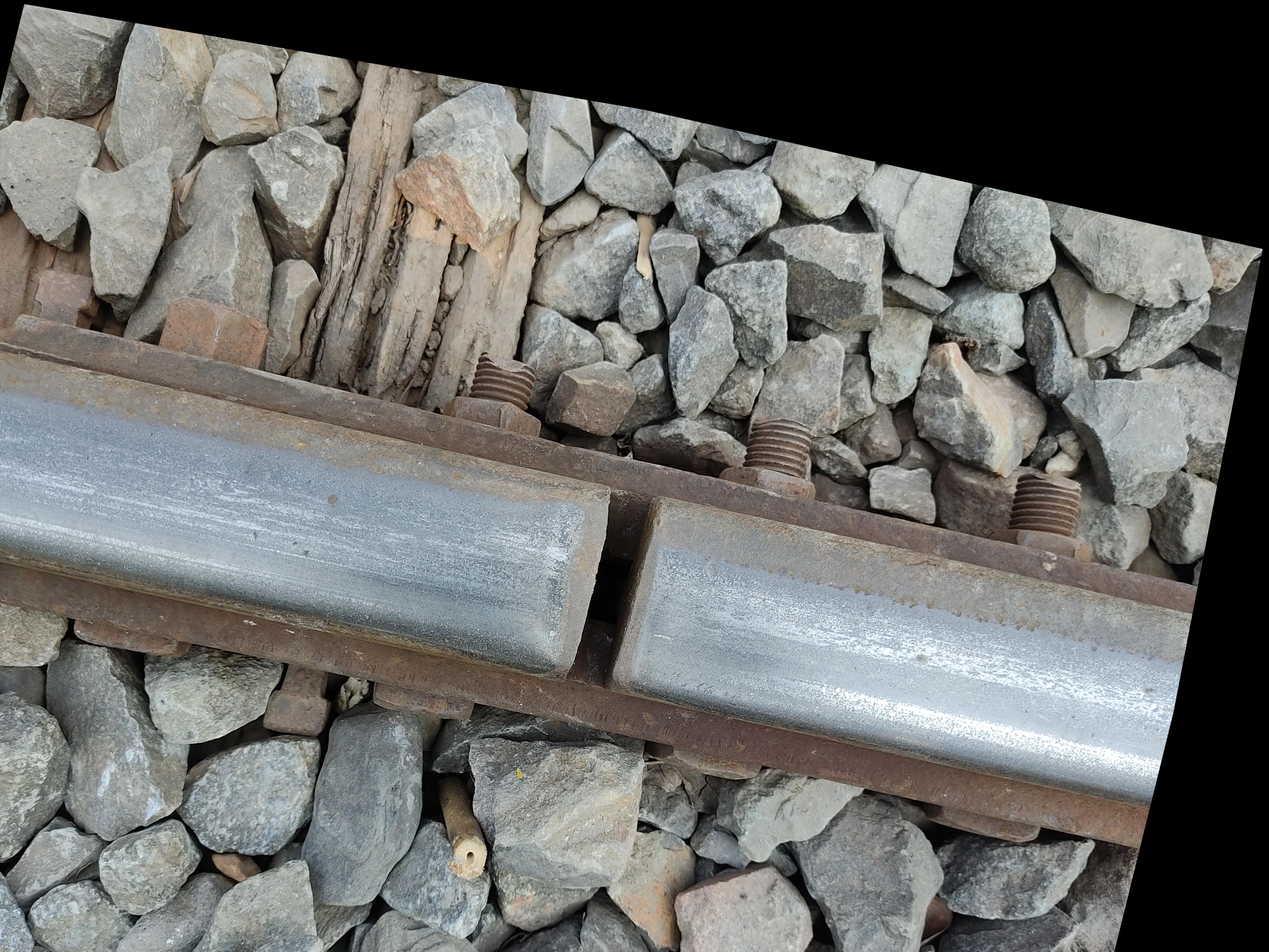person: (492, 379, 821, 700)
